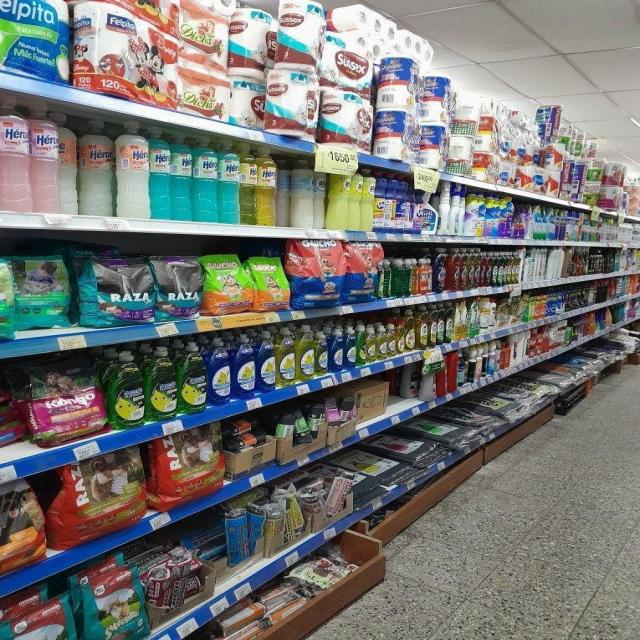ala_conc_amarillo: (460, 249, 469, 289), (470, 250, 479, 288)
ala_conc_azul: (433, 248, 447, 292)
ala_conc_rojo: (448, 248, 459, 291)
cif_conc_bot_amarilla: (402, 308, 415, 351), (416, 305, 428, 348), (429, 304, 438, 347)
cif_conc_botella_verde: (437, 303, 444, 345), (491, 252, 498, 286), (498, 252, 505, 286)
heroe: (30, 101, 64, 212), (78, 118, 114, 216), (0, 93, 29, 211), (115, 120, 149, 218)
magistral_con_amarillo: (276, 328, 296, 387), (296, 326, 314, 381), (314, 330, 328, 376), (358, 327, 368, 368), (366, 324, 376, 364), (397, 310, 406, 354), (387, 319, 397, 356), (376, 324, 386, 360)
magistral_con_azul: (207, 337, 231, 405), (232, 333, 255, 399), (256, 330, 276, 392), (329, 328, 344, 373), (344, 327, 356, 369)
